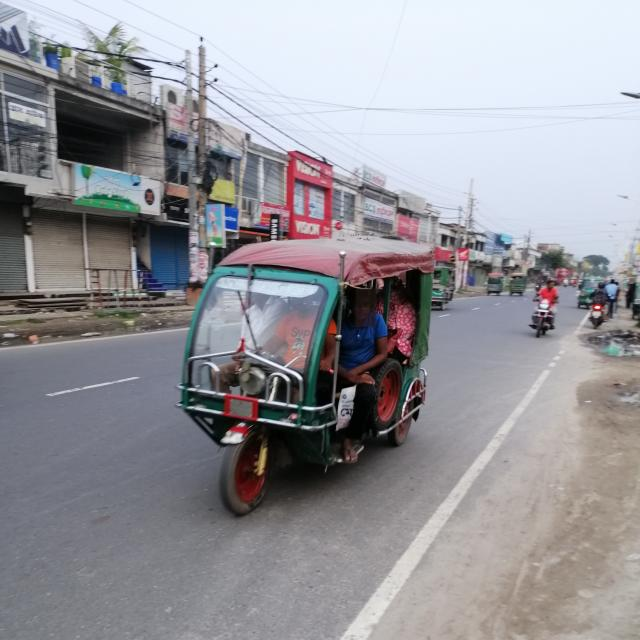CNG: (482, 269, 515, 303)
Easybike: (162, 214, 458, 536)
Motorbike: (518, 298, 572, 355), (583, 290, 611, 335)
